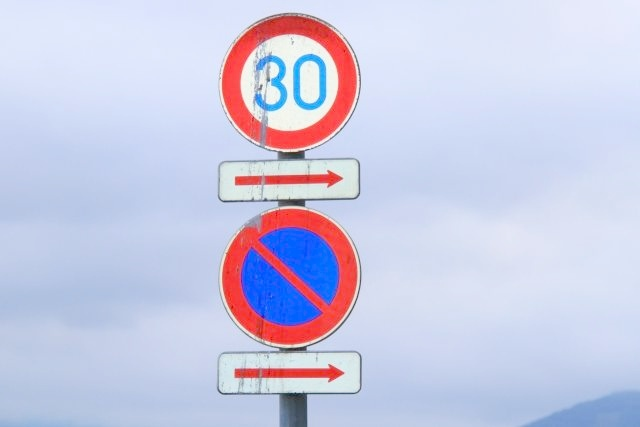Prohibition_sign: (214, 206, 371, 355)
